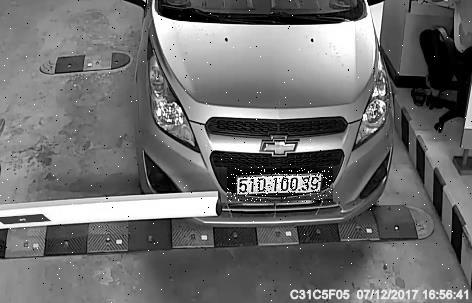License-plate: (228, 169, 334, 204)
